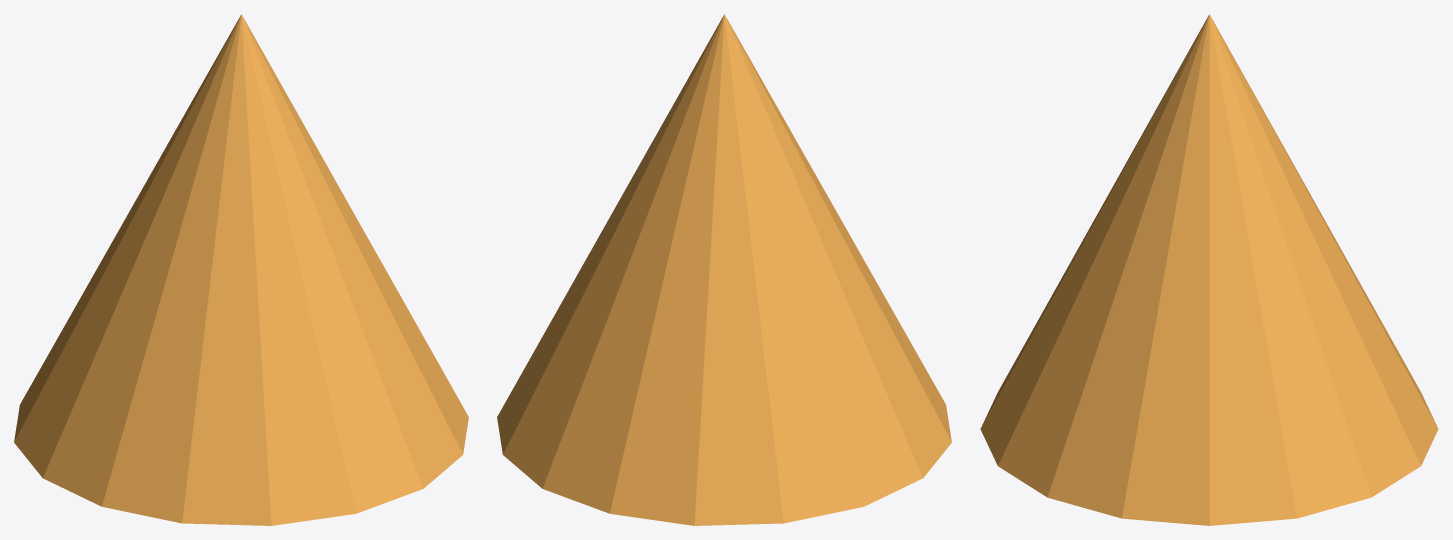
The model's file is traffic-cone.glb.
The picture shows the model from 3 angles, left to right: view 1: azimuth 30°, elevation 25°; view 2: azimuth 150°, elevation 25°; view 3: azimuth 270°, elevation 25°; orthographic projection.
Parts seen in each view (by area): view 1: TrafficCone; view 2: TrafficCone; view 3: TrafficCone.
Boxes of the visible parts, <box> form: TrafficCone: <box>14,14,468,525</box>; TrafficCone: <box>497,14,951,525</box>; TrafficCone: <box>980,14,1438,525</box>.
Size of the model in its own units: 1 by 1 by 1.
